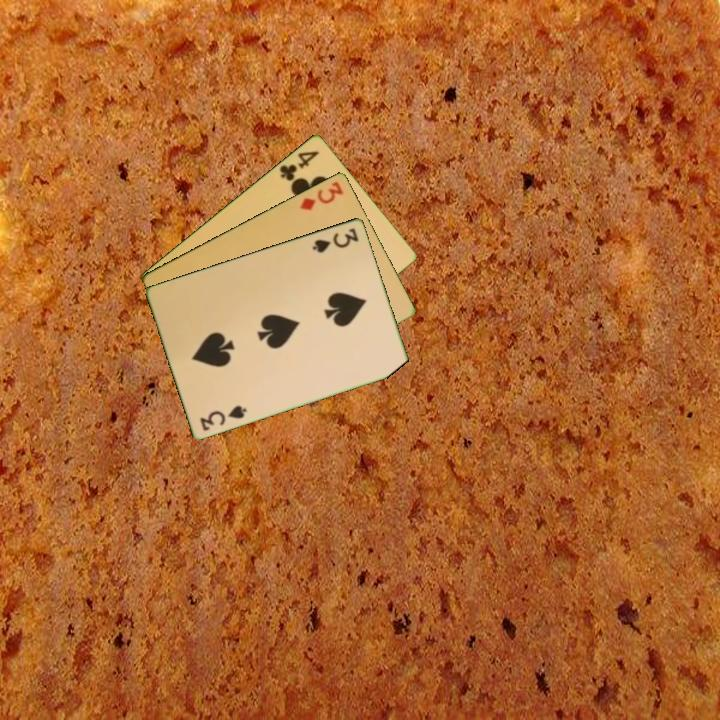3d: (296, 177, 346, 214)
3s: (197, 401, 250, 433), (309, 224, 361, 255)
4c: (276, 147, 322, 184)
